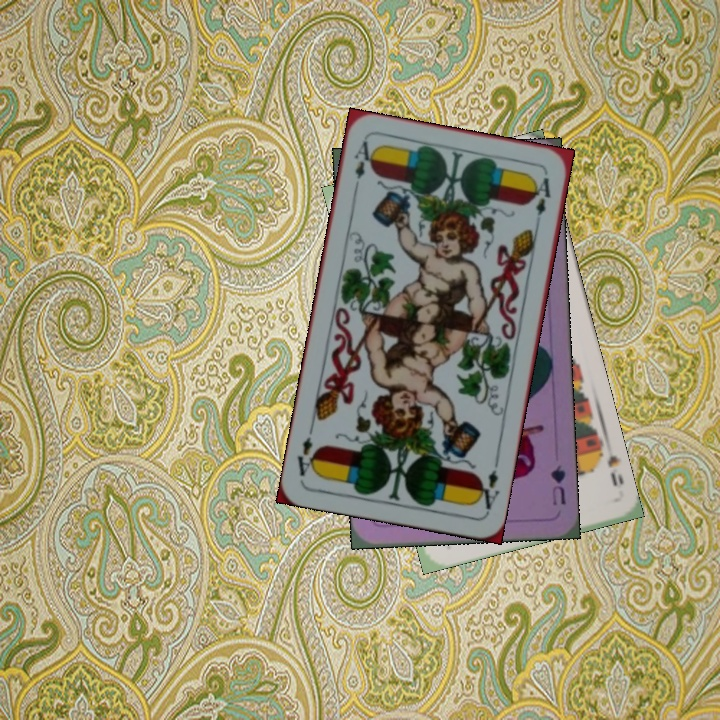EA: (472, 466, 502, 515), (351, 137, 377, 181)
GU: (546, 461, 569, 508)
S9: (590, 439, 627, 490)
